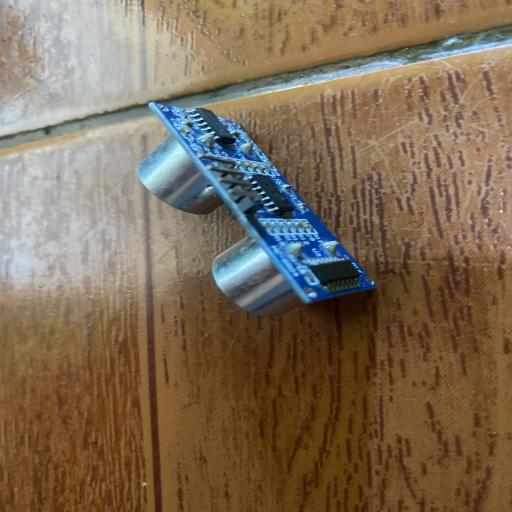Ultrasonic Sensor: (134, 99, 378, 319)
